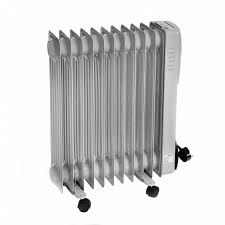Radiator: (44, 19, 194, 212)
